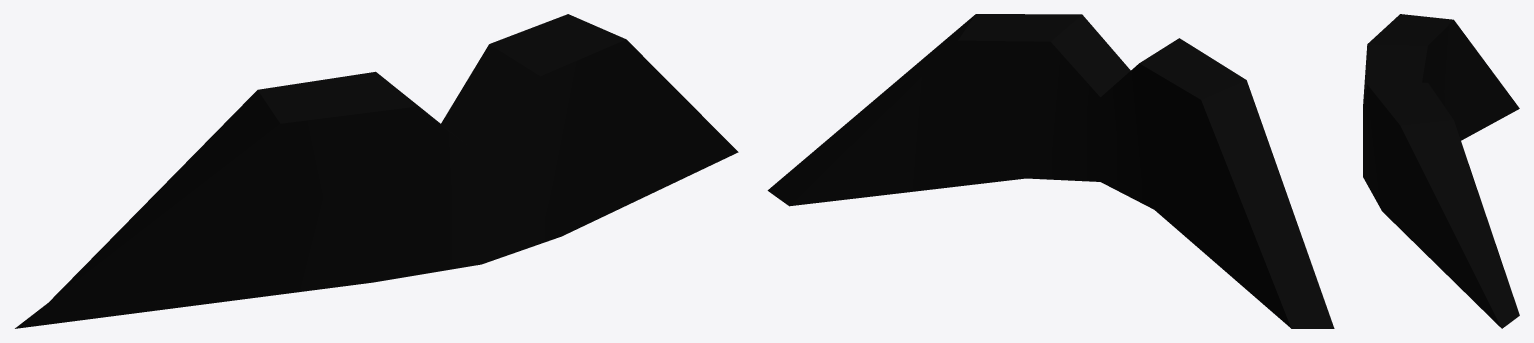
Rendered from Hair_20.fbx.
3 renders of one model, left to right at view 1: azimuth 30°, elevation 25°; view 2: azimuth 150°, elevation 25°; view 3: azimuth 270°, elevation 25°, orthographic. The views are drawn at different scales.
Parts seen in each view (by area): view 1: Hair_20; view 2: Hair_20; view 3: Hair_20.
Boxes of the visible parts, left/top/right/bottom form: Hair_20: left=15, top=14, right=738, bottom=328; Hair_20: left=767, top=14, right=1334, bottom=328; Hair_20: left=1363, top=14, right=1519, bottom=328.
Size of the model in its own units: 60 by 17.71 by 17.03.
